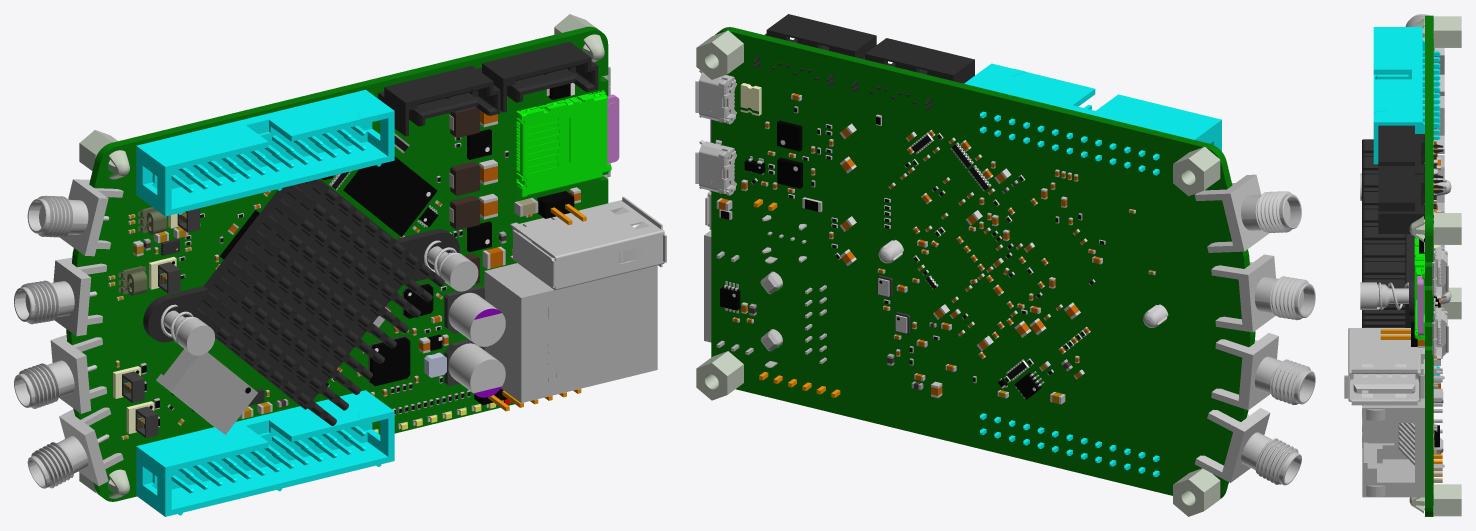
3 views of the same model, side by side, from view 1: azimuth 30°, elevation 25°; view 2: azimuth 150°, elevation 25°; view 3: azimuth 270°, elevation 25° (orthographic). The views are drawn at different scales.
Parts seen in each view (by area): view 1: empty_2, empty_134, empty_487, empty_486, empty_379, empty_375, empty_372, empty_43, empty_42, empty_322, empty_338, empty_336 (+15 smaller); view 2: empty_2, empty_487, empty_336, empty_338, empty_398, empty_400, empty_43, empty_42, empty_379, empty_335, empty_347, empty_1109 (+4 smaller); view 3: empty_379, empty_487, empty_375, empty_134, empty_2, empty_42, empty_43, empty_1109, empty_1108, empty_137, empty_1110, empty_347 (+9 smaller).
Part boxes in pixels (x1,y1,x2,y2): empty_2: (66,26,608,501); empty_134: (143,179,459,425); empty_487: (136,89,394,216); empty_486: (136,390,394,516); empty_379: (484,263,657,403); empty_375: (510,196,666,290); empty_372: (516,90,611,196); empty_43: (378,65,500,136); empty_42: (477,42,598,112); empty_322: (158,349,257,434); empty_338: (27,179,123,256); empty_336: (14,257,106,336); empty_2: (711,27,1255,498); empty_487: (964,63,1221,175); empty_336: (1211,254,1315,332); empty_338: (1194,174,1301,252); empty_398: (1211,333,1315,410); empty_400: (1195,407,1301,485); empty_43: (851,38,974,109); empty_42: (753,14,876,85); empty_379: (704,230,826,367); empty_335: (695,140,736,195); empty_347: (695,70,736,124); empty_1109: (696,30,743,79); empty_379: (1362,368,1444,497); empty_487: (1373,27,1440,164); empty_375: (1344,328,1442,405); empty_134: (1362,139,1414,327); empty_2: (1425,15,1433,516); empty_42: (1378,166,1443,233); empty_43: (1378,125,1443,183); empty_1109: (1409,213,1461,244); empty_1108: (1409,484,1461,516); empty_137: (1360,282,1451,309); empty_1110: (1412,16,1461,47); empty_347: (1432,247,1448,299).
Bounding box in the file's own units: 107 × 60.35 × 21.15.
